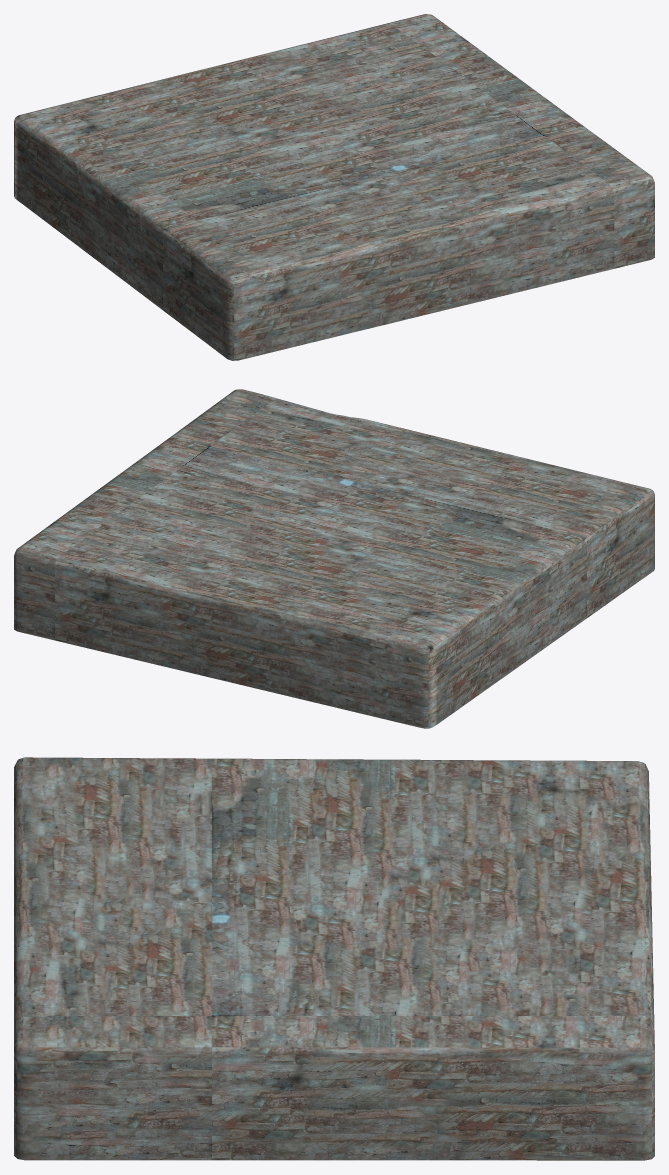
File: Room_G_Base_Bearing.gltf
The picture shows the model from 3 angles, top to bottom: view 1: azimuth 30°, elevation 25°; view 2: azimuth 150°, elevation 25°; view 3: azimuth 270°, elevation 25°; orthographic projection. The views are drawn at different scales.
Parts seen in each view (by area): view 1: Room_G_Base_Bearing_Plane.014; view 2: Room_G_Base_Bearing_Plane.014; view 3: Room_G_Base_Bearing_Plane.014.
Boxes of the visible parts, left/top/right/bottom form: Room_G_Base_Bearing_Plane.014: left=14, top=14, right=654, bottom=360; Room_G_Base_Bearing_Plane.014: left=14, top=389, right=654, bottom=728; Room_G_Base_Bearing_Plane.014: left=14, top=757, right=654, bottom=1160.
Size of the model in its own units: 1.46 by 0.2654 by 1.35.
1 material, 1 textured.
